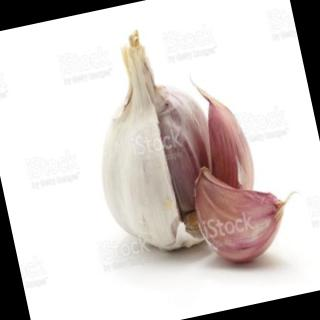Bawang Putih: (73, 14, 268, 260), (188, 153, 295, 270)
